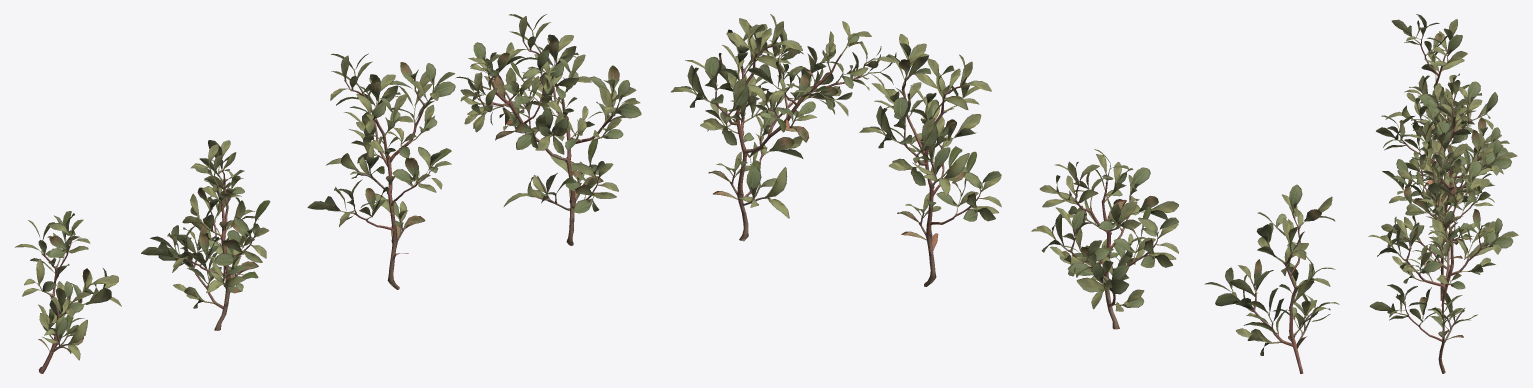
File: shrub_04.glb
3 views of the same model, side by side, from view 1: azimuth 30°, elevation 25°; view 2: azimuth 150°, elevation 25°; view 3: azimuth 270°, elevation 25° (orthographic). The views are drawn at different scales.
Visible parts, largest first — view 1: shrub_04; view 2: shrub_04; view 3: shrub_04.
Boxes of the visible parts, x1,y1,x2,y2 form: shrub_04: [15, 14, 641, 373]; shrub_04: [671, 14, 1339, 373]; shrub_04: [1368, 14, 1518, 373].
Bounding box in the file's own units: 0.5837 × 0.2192 × 0.1461.
1 material, 1 textured.
